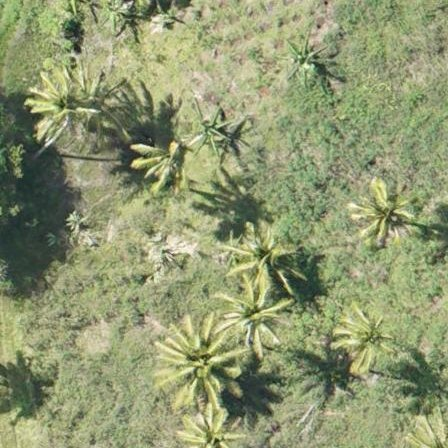palm_tree: (157, 320, 238, 396), (231, 225, 299, 294), (222, 285, 287, 350), (128, 131, 195, 193), (30, 72, 92, 137), (334, 307, 397, 366), (352, 186, 413, 242), (170, 406, 247, 448), (403, 411, 448, 448)
